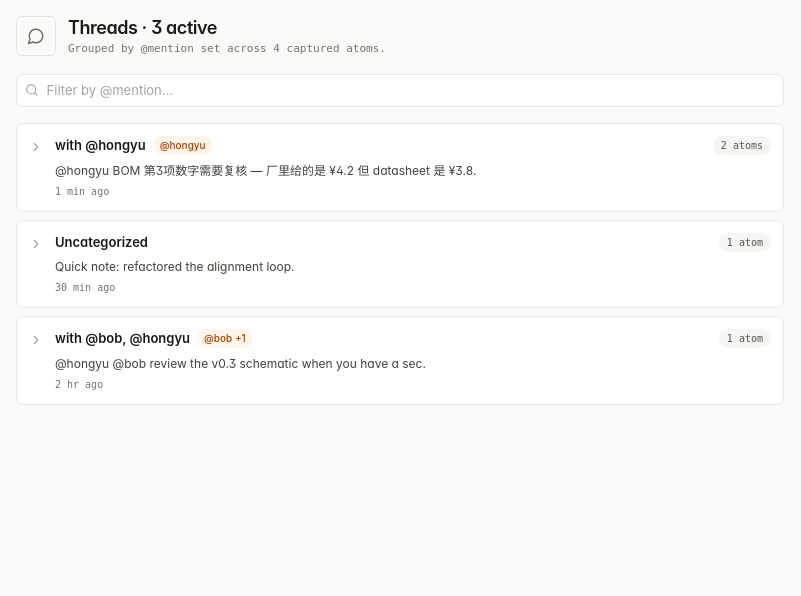
Scenario: Wave 2 B2 — /threads route › expands inline AtomCard list on toggle click
expect the list with test id "threads-list" is shown: met, box [16,123,784,404]
Click the button with test id "thread-card-toggle-hongyu" at (400, 167), box [17,124,783,210]
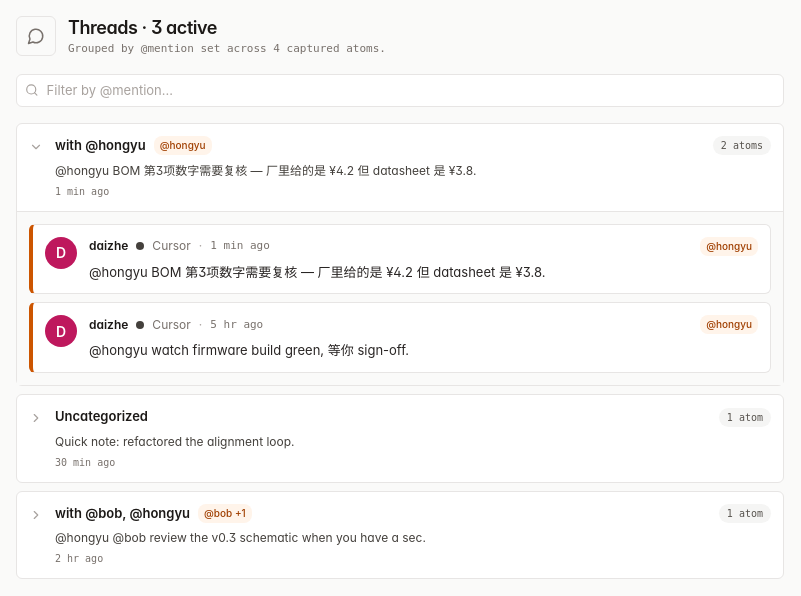
expect the element with test id "thread-card-expanded-hongyu" is shown: met, box [17,210,783,385]
expect the button with test id "atom-card-e1" is shown: met, box [29,224,771,294]
expect the button with test id "atom-card-e2" is shown: met, box [29,302,771,373]
